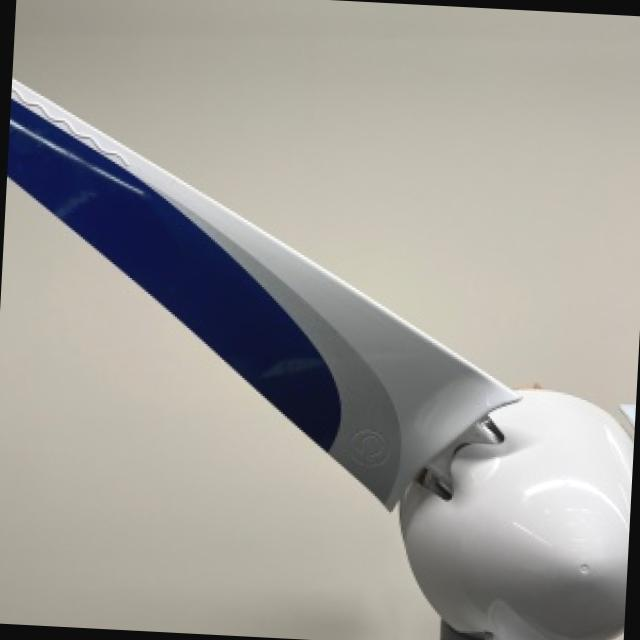healthy: (7, 80, 632, 640), (0, 180, 437, 640)
